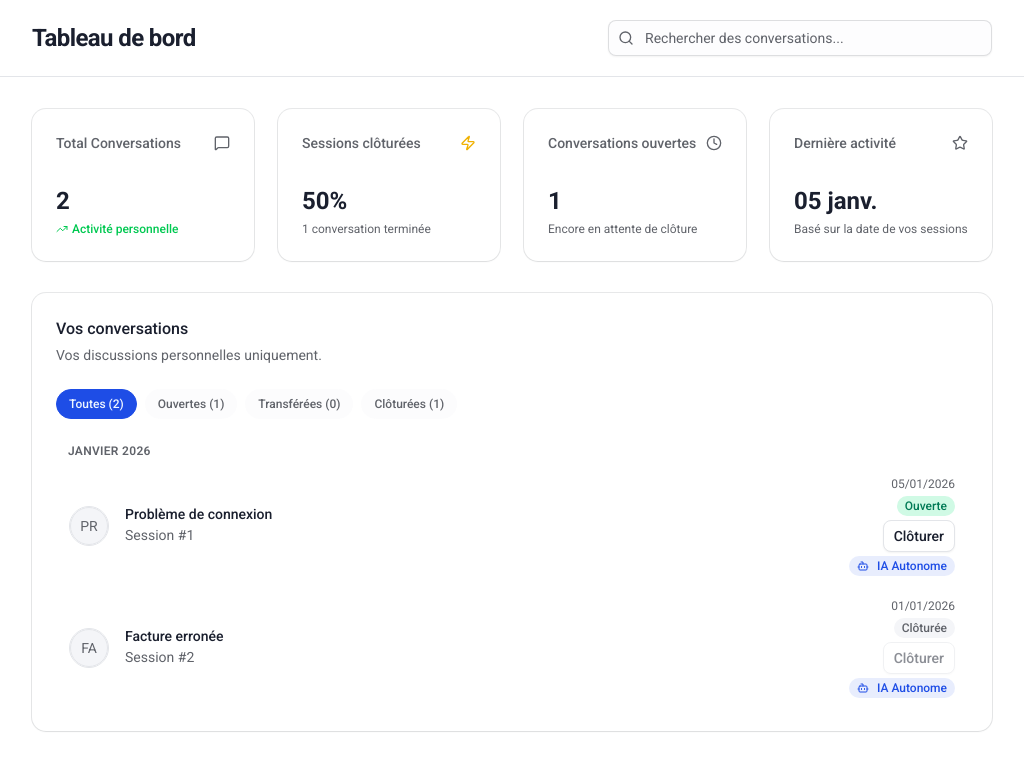
Test case: UserDashboard › performs a debounced server-side search and highlights the match
Expected: the text "Problème de connexion" is shown, [125,507,272,521]
Type "facture" into the search field with placeholder "Rechercher des conversations...". click: point(800, 38)
box: [608,20,992,56]
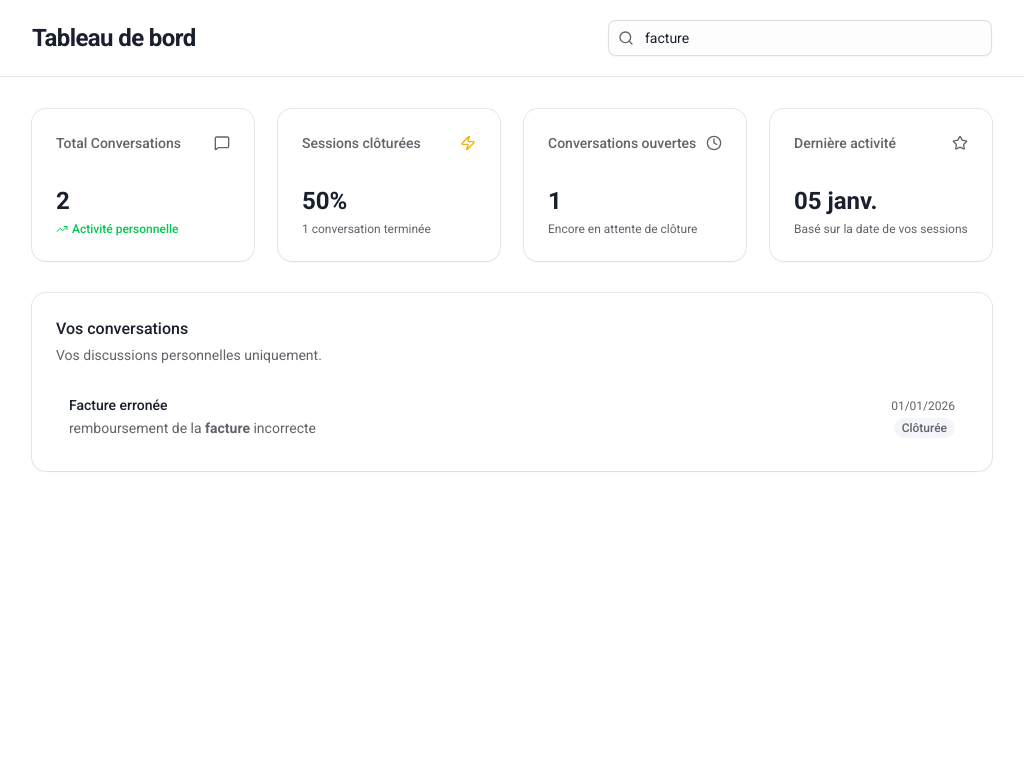
Expected: the text "Facture erronée" is shown, [69,397,168,413]
Now the button "Problème de connexion" is gone
Now the text "facture" is shown, box [205,420,250,436]
